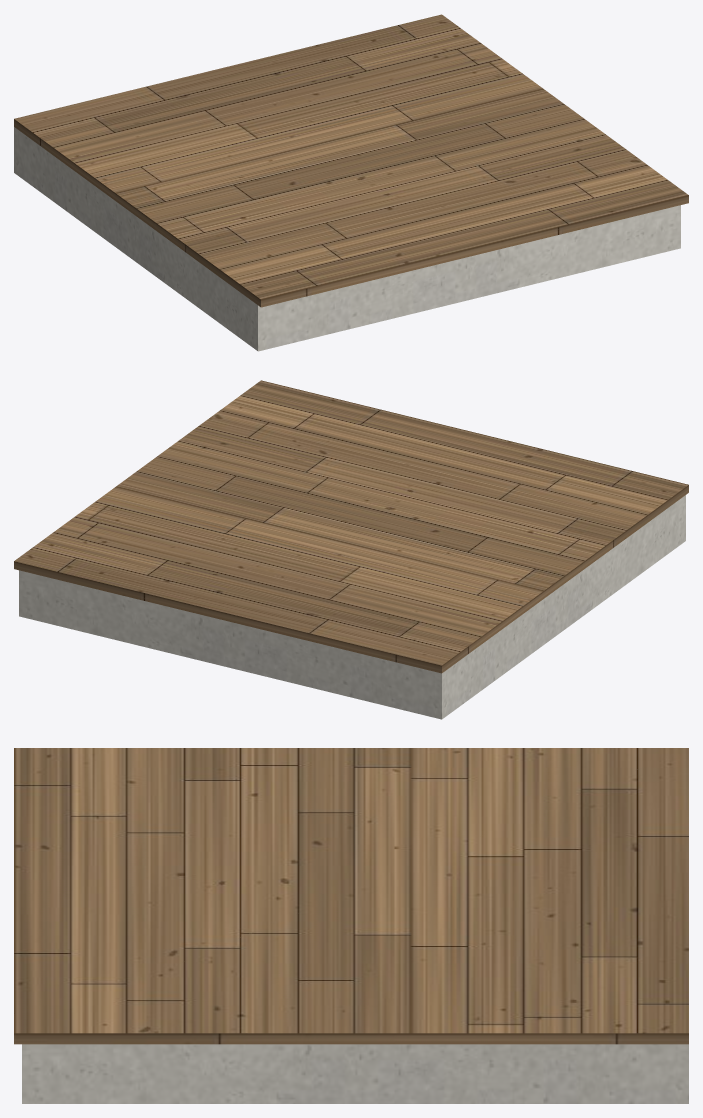
The model's file is floor_wood_c_e30_0_30_0.glb.
3 renders of one model, top to bottom at view 1: azimuth 30°, elevation 25°; view 2: azimuth 150°, elevation 25°; view 3: azimuth 270°, elevation 25°, orthographic. The views are drawn at different scales.
Parts seen in each view (by area): view 1: floor_wood_c_e30_0_30_0_attic, floor_wood_c_e30_0_30_0_plaster; view 2: floor_wood_c_e30_0_30_0_attic, floor_wood_c_e30_0_30_0_plaster; view 3: floor_wood_c_e30_0_30_0_attic, floor_wood_c_e30_0_30_0_plaster.
Part boxes in pixels (bbox=[...]): floor_wood_c_e30_0_30_0_attic: bbox=[14, 14, 688, 307]; floor_wood_c_e30_0_30_0_plaster: bbox=[14, 127, 680, 351]; floor_wood_c_e30_0_30_0_attic: bbox=[14, 380, 688, 673]; floor_wood_c_e30_0_30_0_plaster: bbox=[19, 495, 685, 719]; floor_wood_c_e30_0_30_0_attic: bbox=[14, 748, 688, 1044]; floor_wood_c_e30_0_30_0_plaster: bbox=[22, 1044, 688, 1103].
Bounding box in the file's own units: 1.7 × 0.205 × 1.7.
Materials: 2 (2 with a texture image).
